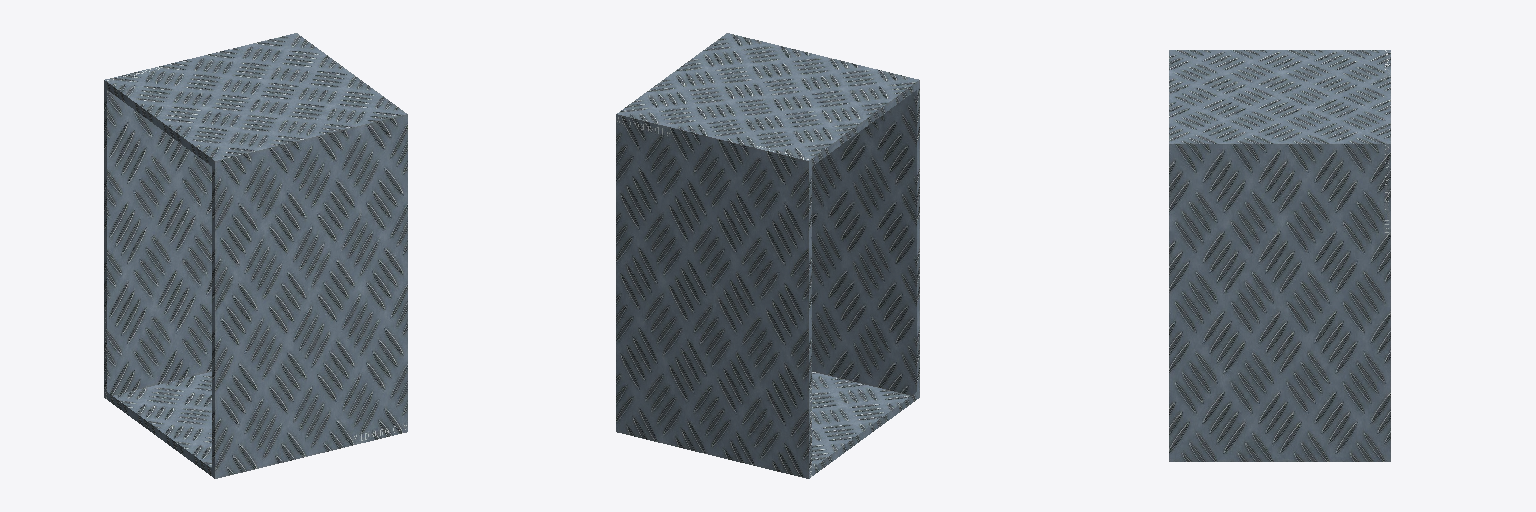
3 renders of one model, left to right at view 1: azimuth 30°, elevation 25°; view 2: azimuth 150°, elevation 25°; view 3: azimuth 270°, elevation 25°, orthographic.
Visible parts, largest first — view 1: fahrstuhl_neu_ID21; view 2: fahrstuhl_neu_ID21; view 3: fahrstuhl_neu_ID21.
Part boxes in pixels (bbox=[...]): fahrstuhl_neu_ID21: bbox=[104, 33, 407, 478]; fahrstuhl_neu_ID21: bbox=[616, 33, 919, 478]; fahrstuhl_neu_ID21: bbox=[1169, 50, 1390, 461].
Size of the model in its own units: 0.057 by 0.09 by 0.057.
1 materials, 1 textured.